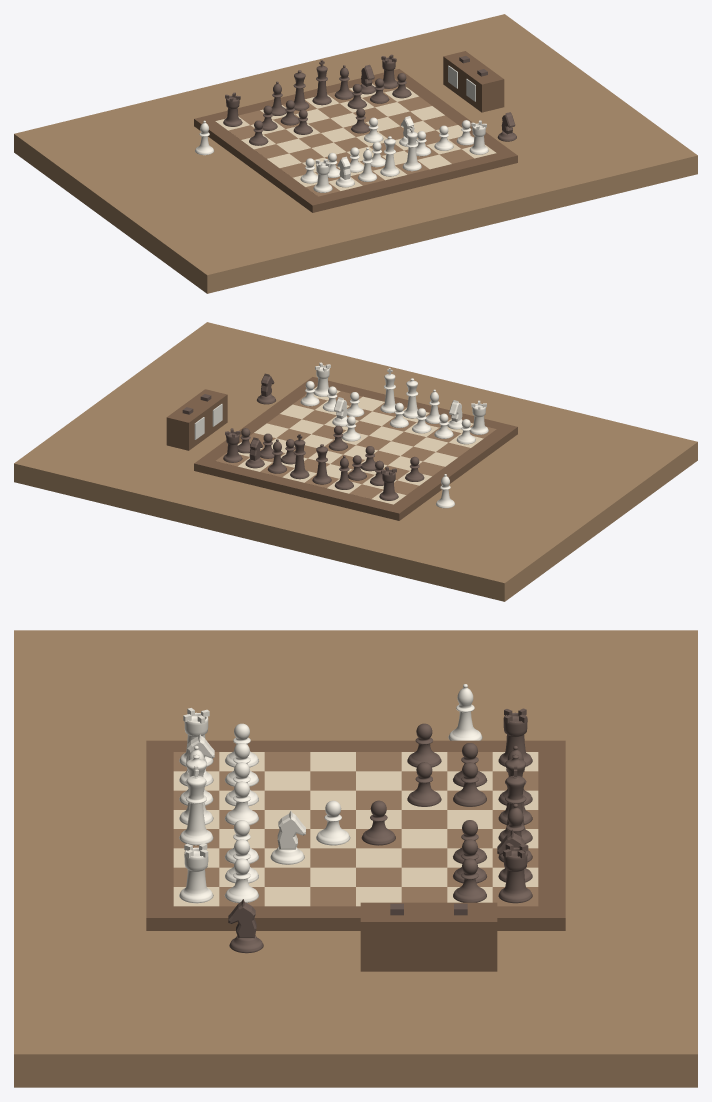
Rendered from source.gltf.
3 views of the same model, one above another, from view 1: azimuth 30°, elevation 25°; view 2: azimuth 150°, elevation 25°; view 3: azimuth 270°, elevation 25° (orthographic). The views are drawn at different scales.
Parts seen in each view (by area): view 1: table, board-frame, board-dark-squares, board-light-squares, clock-case, white-king-e1, black-king-e8, black-rook-a8, white-rook-h1, white-rook-a1, white-queen-d1; view 2: table, board-frame, board-dark-squares, board-light-squares, clock-case, black-king-e8, black-rook-a8, black-rook-h8, black-queen-d8, white-rook-a1, white-king-e1; view 3: table, board-dark-squares, board-frame, board-light-squares, clock-case, white-king-e1, black-rook-h8, white-rook-h1, white-knight-f3, captured-black-knight, black-rook-a8, captured-white-bishop (+10 smaller).
Boxes of the visible parts, <box> form: table: <box>14,14,697,293</box>; board-frame: <box>194,69,517,212</box>; board-dark-squares: <box>228,78,474,196</box>; board-light-squares: <box>215,84,496,190</box>; clock-case: <box>443,51,504,112</box>; white-king-e1: <box>402,126,421,171</box>; black-king-e8: <box>312,60,331,105</box>; black-rook-a8: <box>223,92,242,126</box>; white-rook-h1: <box>469,120,488,154</box>; white-rook-a1: <box>313,159,332,192</box>; white-queen-d1: <box>380,136,399,176</box>; table: <box>14,322,697,601</box>; board-frame: <box>194,377,517,520</box>; board-dark-squares: <box>215,391,496,498</box>; board-light-squares: <box>237,386,483,504</box>; clock-case: <box>166,389,227,450</box>; black-king-e8: <box>290,434,309,479</box>; black-rook-a8: <box>379,466,398,500</box>; black-rook-h8: <box>223,428,242,462</box>; black-queen-d8: <box>312,444,331,484</box>; white-rook-a1: <box>469,400,488,434</box>; white-king-e1: <box>380,368,395,413</box>; table: <box>14,630,697,1087</box>; board-dark-squares: <box>173,752,538,906</box>; board-frame: <box>146,740,565,930</box>; board-light-squares: <box>173,752,538,906</box>; clock-case: <box>360,902,497,971</box>; white-king-e1: <box>179,765,213,845</box>; black-rook-h8: <box>498,843,532,903</box>; white-rook-h1: <box>179,843,213,903</box>; white-knight-f3: <box>270,810,305,864</box>; captured-black-knight: <box>228,899,263,953</box>; black-rook-a8: <box>498,708,532,766</box>; captured-white-bishop: <box>448,684,482,740</box>.
Size of the model in its own units: 1.1 by 0.1436 by 0.75.
